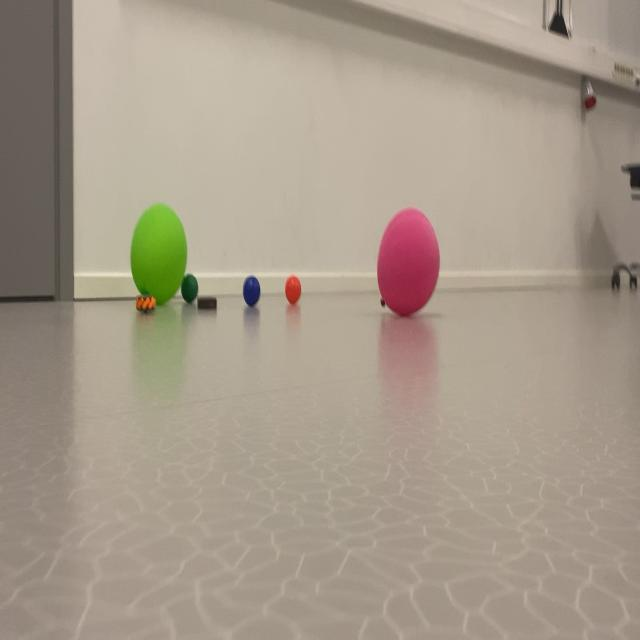6: (227, 249, 316, 343)
7: (282, 265, 304, 321)
green ball: (234, 264, 263, 314)
red ball: (176, 266, 200, 304)
